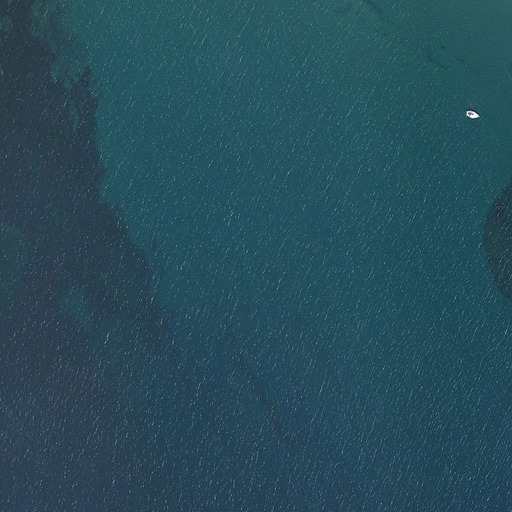ship: (463, 108, 481, 121)
